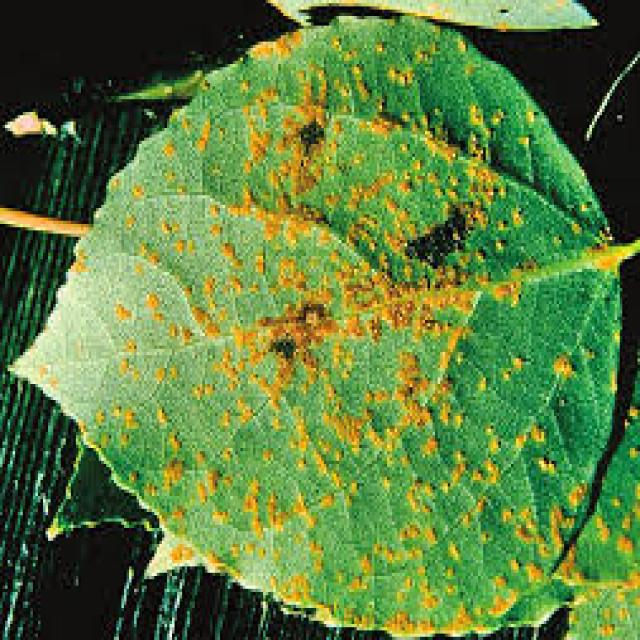leaf_rust: (15, 16, 637, 634)
